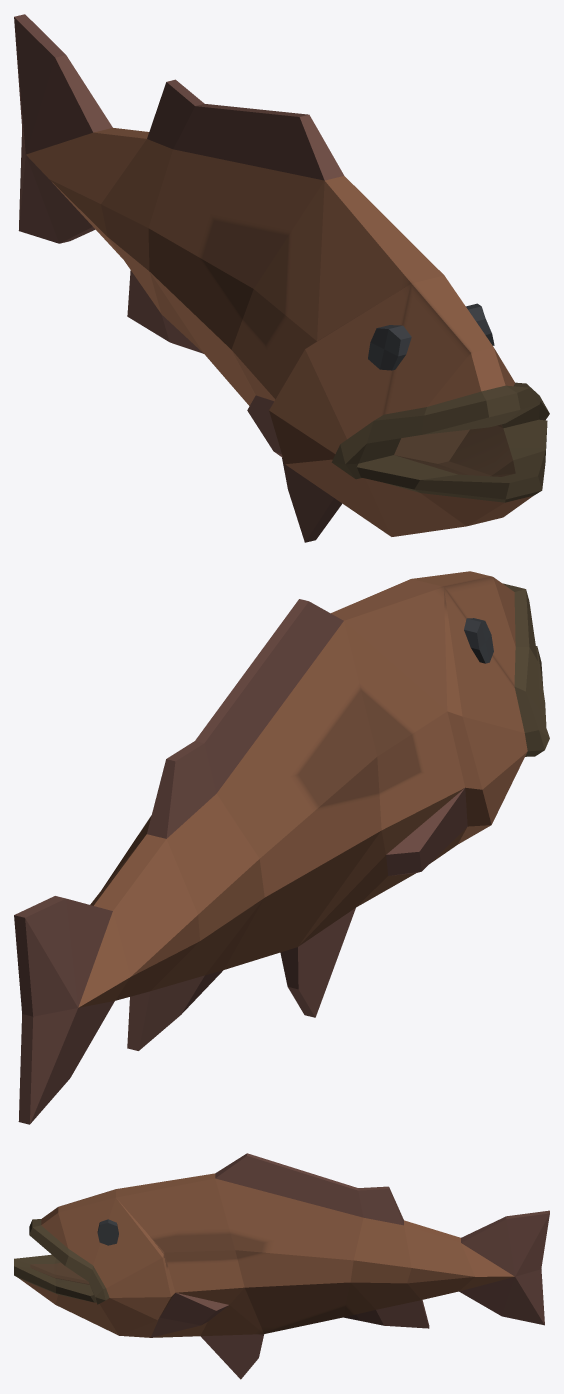
The model's file is SM_Prop_Fish_04.fbx.
3 views of the same model, one above another, from view 1: azimuth 30°, elevation 25°; view 2: azimuth 150°, elevation 25°; view 3: azimuth 270°, elevation 25° (orthographic). The views are drawn at different scales.
Parts seen in each view (by area): view 1: SM_Prop_Fish_04; view 2: SM_Prop_Fish_04; view 3: SM_Prop_Fish_04.
Part boxes in pixels (<box>): SM_Prop_Fish_04: <box>14,14,549,542</box>; SM_Prop_Fish_04: <box>14,571,549,1124</box>; SM_Prop_Fish_04: <box>14,1153,549,1379</box>.
Size of the model in its own units: 15.03 by 28.23 by 61.25.
